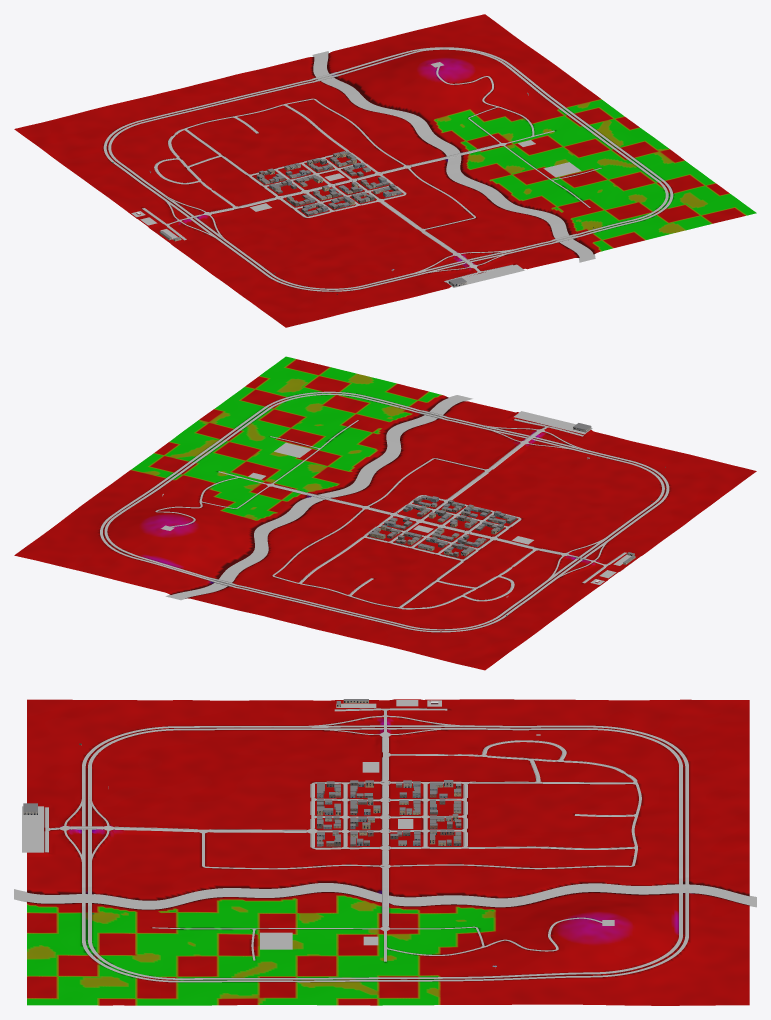
The model's file is map.glb.
3 renders of one model, top to bottom at view 1: azimuth 30°, elevation 25°; view 2: azimuth 150°, elevation 25°; view 3: azimuth 270°, elevation 25°, orthographic. The views are drawn at different scales.
Visible parts, largest first — view 1: ROADS, WATER, TERRAIN_6_2, SIDEWALKS, TERRAIN_5_1, TERRAIN_6_3, TERRAIN_1_5, TERRAIN_5_2, TERRAIN_1_6, TERRAIN_2_6, TERRAIN_0_0, TERRAIN_0_7 (+56 smaller); view 2: ROADS, WATER, SIDEWALKS, TERRAIN_5_1, TERRAIN_6_0, TERRAIN_5_0, TERRAIN_6_1, TERRAIN_0_7, TERRAIN_1_6, TERRAIN_6_6, TERRAIN_1_5, TERRAIN_2_6 (+56 smaller); view 3: ROADS, WATER, TERRAIN_7_1, TERRAIN_6_1, SIDEWALKS, TERRAIN_7_0, TERRAIN_7_2, TERRAIN_0_0, TERRAIN_2_5, TERRAIN_6_6, TERRAIN_7_7, TERRAIN_0_7 (+57 smaller).
Boxes of the visible parts, x1=… form: ROADS: x1=103, y1=47, x2=673, y2=291; WATER: x1=312, y1=51, x2=595, y2=262; TERRAIN_6_2: x1=435, y1=71, x2=527, y2=116; SIDEWALKS: x1=142, y1=105, x2=512, y2=282; TERRAIN_5_1: x1=345, y1=60, x2=434, y2=106; TERRAIN_6_3: x1=470, y1=102, x2=561, y2=142; TERRAIN_1_5: x1=243, y1=224, x2=335, y2=264; TERRAIN_5_2: x1=381, y1=83, x2=468, y2=132; TERRAIN_1_6: x1=277, y1=249, x2=369, y2=288; TERRAIN_2_6: x1=336, y1=235, x2=427, y2=274; TERRAIN_0_0: x1=14, y1=114, x2=106, y2=153; TERRAIN_0_7: x1=252, y1=289, x2=344, y2=327; ROADS: x1=100, y1=391, x2=669, y2=632; WATER: x1=165, y1=395, x2=472, y2=600; SIDEWALKS: x1=273, y1=418, x2=626, y2=609; TERRAIN_5_1: x1=166, y1=524, x2=254, y2=574; TERRAIN_6_0: x1=73, y1=541, x2=165, y2=584; TERRAIN_5_0: x1=132, y1=552, x2=221, y2=598; TERRAIN_6_1: x1=107, y1=513, x2=199, y2=552; TERRAIN_0_7: x1=667, y1=456, x2=756, y2=495; TERRAIN_1_6: x1=571, y1=467, x2=663, y2=506; TERRAIN_6_6: x1=277, y1=396, x2=368, y2=434; TERRAIN_1_5: x1=538, y1=492, x2=629, y2=531; TERRAIN_2_6: x1=512, y1=452, x2=604, y2=491; ROADS: x1=45, y1=708, x2=688, y2=982; WATER: x1=14, y1=883, x2=756, y2=909; TERRAIN_7_1: x1=569, y1=957, x2=659, y2=1005; TERRAIN_6_1: x1=569, y1=913, x2=659, y2=961; SIDEWALKS: x1=44, y1=708, x2=637, y2=926; TERRAIN_7_0: x1=659, y1=962, x2=749, y2=1005; TERRAIN_7_2: x1=478, y1=958, x2=568, y2=1004; TERRAIN_0_0: x1=659, y1=699, x2=749, y2=738; TERRAIN_2_5: x1=207, y1=775, x2=297, y2=814; TERRAIN_6_6: x1=117, y1=928, x2=207, y2=967; TERRAIN_7_7: x1=27, y1=967, x2=117, y2=1005; TERRAIN_0_7: x1=27, y1=699, x2=117, y2=738.
Size of the model in its own units: 1984 by 63.91 by 2040.
41 materials, 7 textured.
